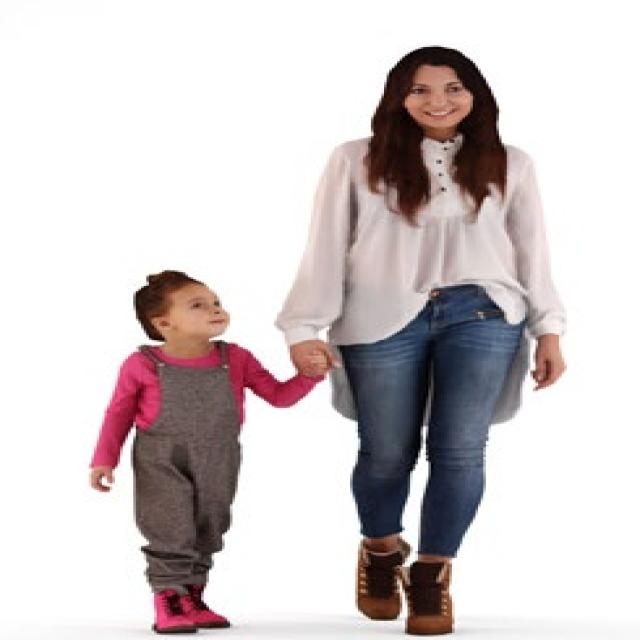standing: (271, 42, 581, 640), (79, 267, 266, 634)
